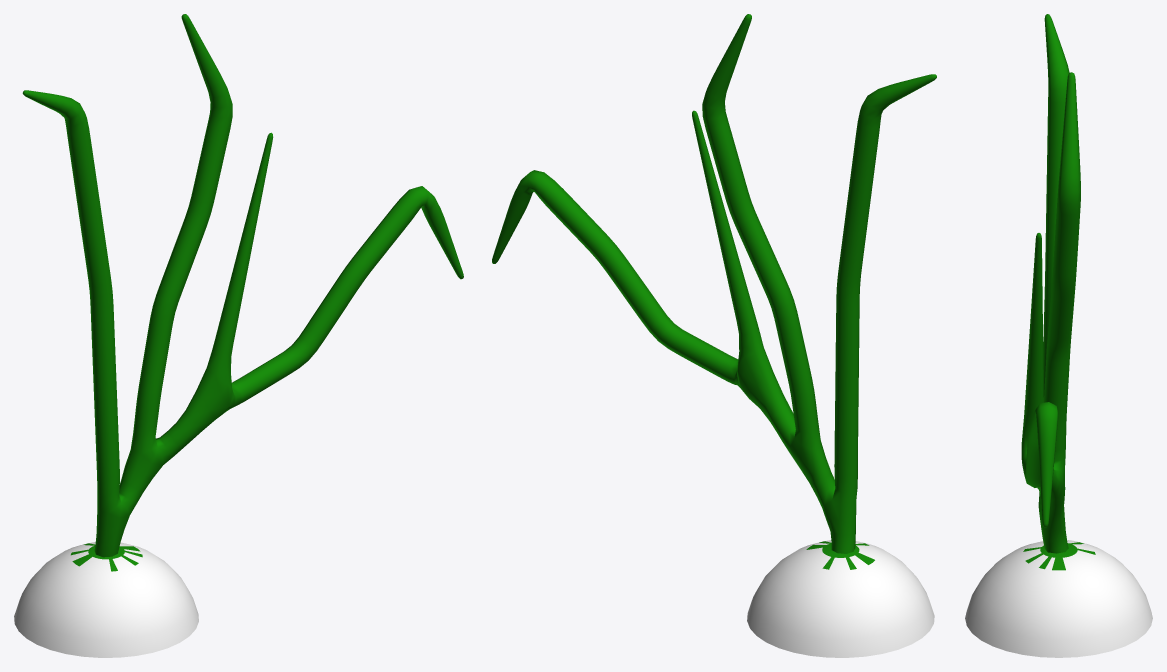
Rendered from Oignon_Croissance_1.fbx.
The picture shows the model from 3 angles, left to right: view 1: azimuth 30°, elevation 25°; view 2: azimuth 150°, elevation 25°; view 3: azimuth 270°, elevation 25°; orthographic projection.
Visible parts, largest first — view 1: Feuilles, Oignon_Base; view 2: Feuilles, Oignon_Base; view 3: Feuilles, Oignon_Base.
Part boxes in pixels (left/top/right/bottom): Feuilles: left=22, top=14, right=463, bottom=557; Oignon_Base: left=14, top=542, right=198, bottom=657; Feuilles: left=492, top=14, right=936, bottom=553; Oignon_Base: left=747, top=540, right=934, bottom=657; Feuilles: left=1021, top=14, right=1080, bottom=553; Oignon_Base: left=965, top=540, right=1152, bottom=657.
Bounding box in the file's own units: 11.33 × 14.29 × 4.14.
